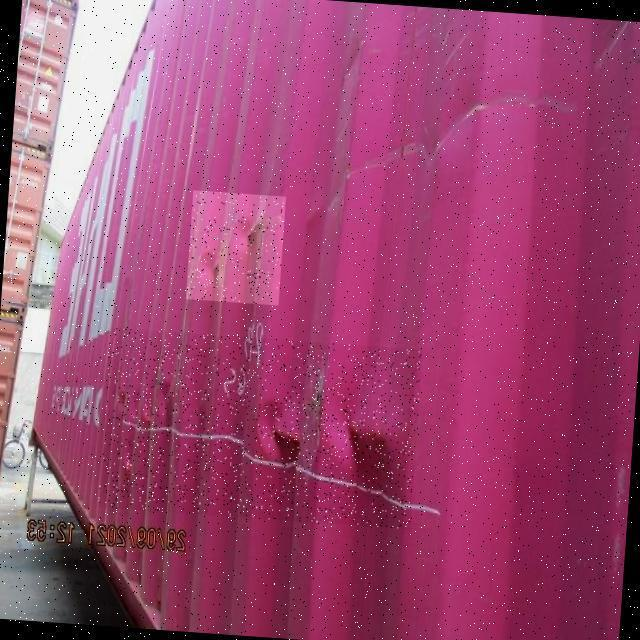dent: (99, 329, 424, 530), (187, 191, 287, 306)
